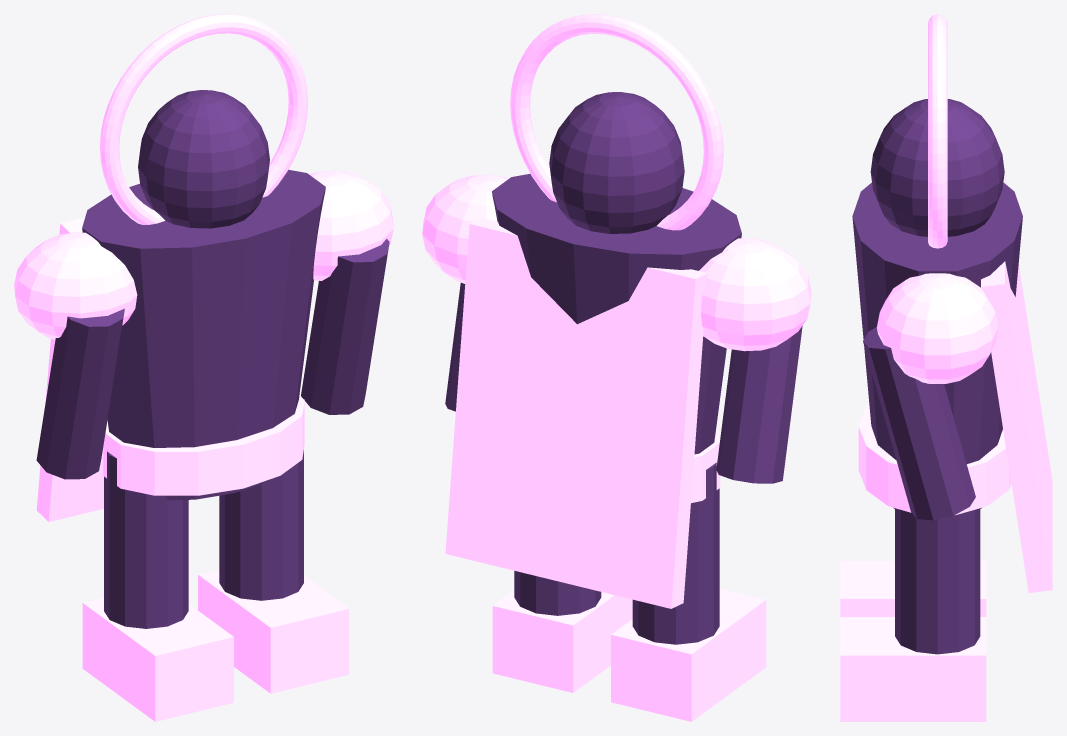
Rendered from enemy_elite_lich.glb.
The picture shows the model from 3 angles, left to right: view 1: azimuth 30°, elevation 25°; view 2: azimuth 150°, elevation 25°; view 3: azimuth 270°, elevation 25°; orthographic projection. The views are drawn at different scales.
Visible parts, largest first — view 1: Cone, Sphere.002, Cube, Cube.001, Cylinder, Cylinder.003, Cylinder.004, Cylinder.002, Cylinder.001, Torus, Sphere, Sphere.001 (+1 smaller); view 2: Cube.002, Cone, Sphere.002, Cube, Torus, Sphere, Cube.001, Cylinder.003, Cylinder, Sphere.001, Cylinder.001, Cylinder.004 (+1 smaller); view 3: Cone, Cube.001, Sphere.002, Cube.002, Cylinder.001, Cylinder.004, Sphere.001, Cylinder.002, Torus, Cube.
Part boxes in pixels (x1,y1,x2,y2): Cone: [82, 169, 325, 500]; Sphere.002: [138, 90, 269, 228]; Cube: [82, 598, 233, 721]; Cube.001: [198, 570, 349, 693]; Cylinder: [104, 451, 188, 628]; Cylinder.003: [36, 308, 124, 479]; Cylinder.004: [301, 239, 389, 414]; Cylinder.002: [103, 396, 304, 495]; Cylinder.001: [219, 450, 303, 600]; Torus: [99, 14, 308, 224]; Sphere: [14, 232, 137, 339]; Sphere.001: [309, 170, 393, 280]; Cube.002: [445, 218, 707, 608]; Cone: [492, 174, 741, 454]; Sphere.002: [549, 92, 684, 233]; Cube: [611, 588, 766, 721]; Torus: [510, 14, 723, 230]; Sphere: [699, 237, 811, 351]; Cube.001: [492, 590, 632, 692]; Cylinder.003: [716, 326, 802, 483]; Cylinder: [632, 462, 719, 644]; Sphere.001: [422, 175, 508, 283]; Cylinder.001: [514, 571, 601, 615]; Cylinder.004: [445, 282, 465, 411]; Cone: [852, 182, 1022, 508]; Cube.001: [840, 617, 986, 721]; Sphere.002: [870, 99, 1004, 236]; Cube.002: [981, 176, 1052, 592]; Cylinder.001: [895, 508, 980, 654]; Cylinder.004: [863, 327, 975, 520]; Sphere.001: [876, 273, 998, 383]; Cylinder.002: [858, 404, 1011, 515]; Torus: [928, 14, 947, 248]; Cube: [840, 560, 986, 616].
Size of the model in its own units: 1.74 by 2.94 by 0.8722.
